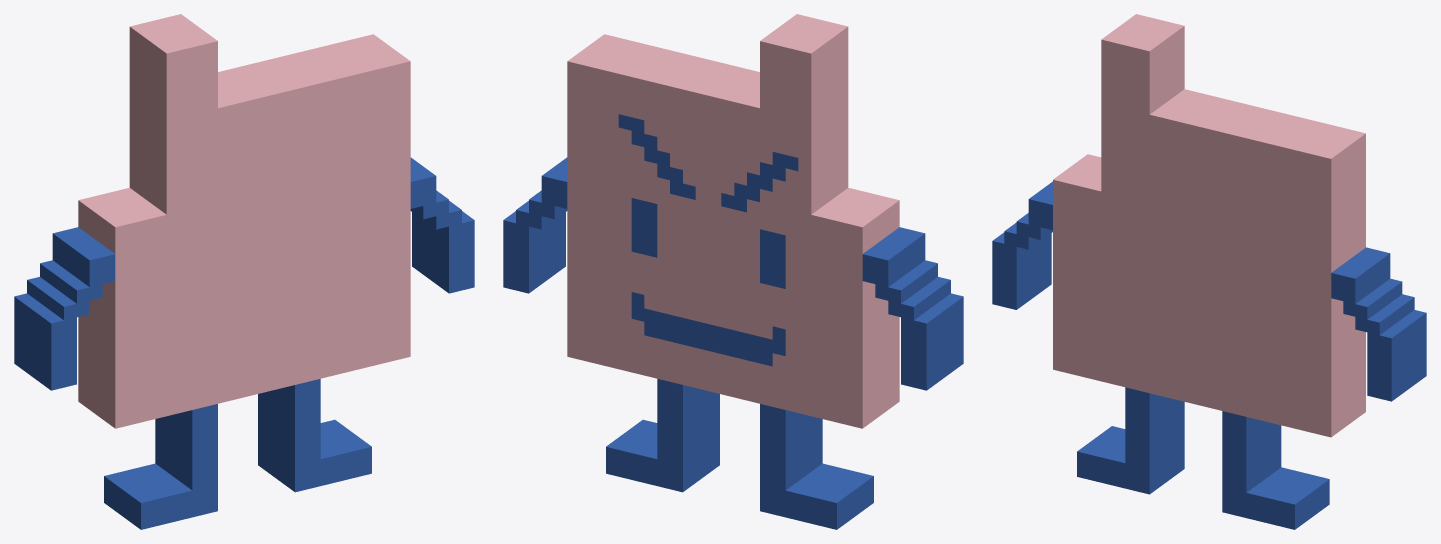
The model's file is Boss.FBX.
3 renders of one model, left to right at view 1: azimuth 30°, elevation 25°; view 2: azimuth 150°, elevation 25°; view 3: azimuth 330°, elevation 25°, orthographic. The views are drawn at different scales.
Parts seen in each view (by area): view 1: model_Boss_obj; view 2: model_Boss_obj; view 3: model_Boss_obj.
Boxes of the visible parts, <box> form: model_Boss_obj: <box>14,14,474,529</box>; model_Boss_obj: <box>503,14,963,529</box>; model_Boss_obj: <box>992,14,1426,529</box>.
Size of the model in its own units: 33 by 35 by 5.
1 material, 1 textured.
